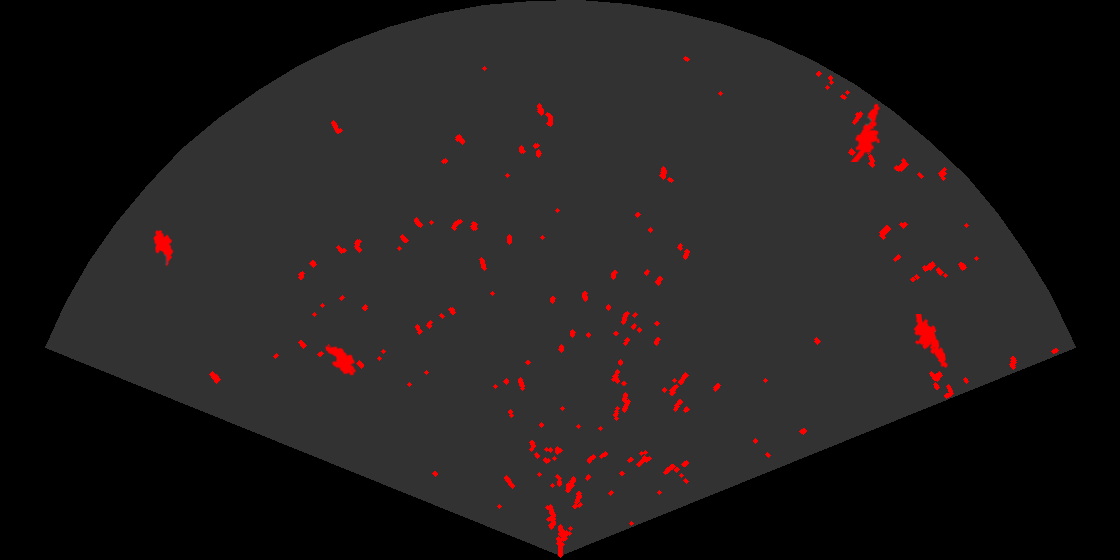AUV: (323, 344, 358, 377), (152, 228, 175, 268)
frogman: (912, 314, 949, 370), (849, 102, 882, 162)
